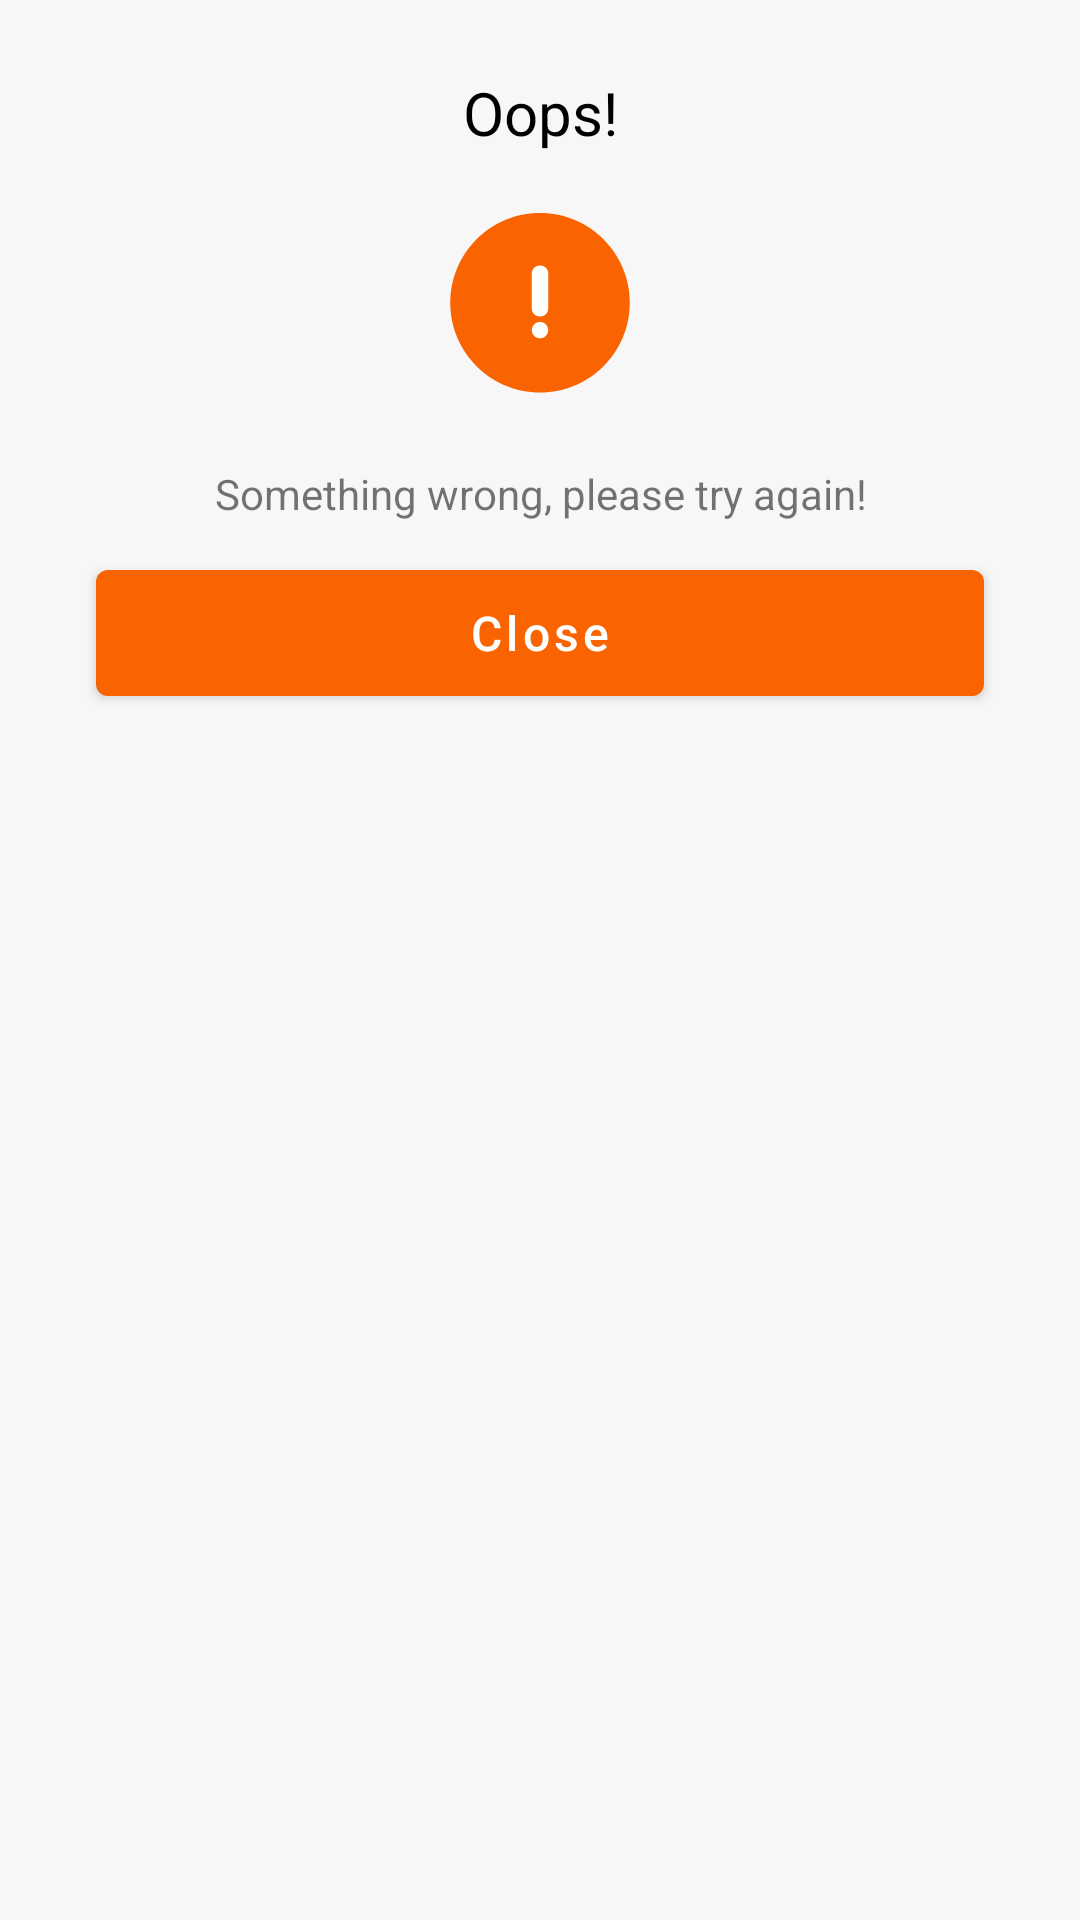

Screen size 1080px×1920px. Icon name, then its box in pixels as region(x1, y1, x2, y2):
warning: region(450, 213, 630, 393)
